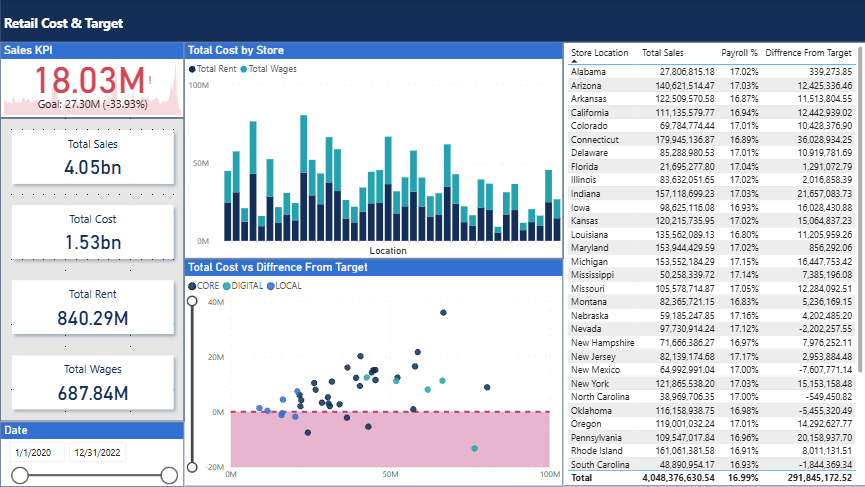

Layout of this report page (visuals, bound fields, positions):
{"tool":"powerbi","page":{"name":"Cost & Target","canvas":[1280,720],"ordinal":1},"visuals":[{"type":"group","id":"g1","title":"Group 1","box":[0,0,1280,64],"z":0},{"type":"kpi","title":"Sales KPI","fields":{"Goal":["Retail Cost.Total Target Sales"],"Indicator":["Retail Sales.Total Sales"],"TrendLine":["Date.Date"]},"box":[0,64,272,112],"z":1000},{"type":"cardVisual","fields":{"Data":["Retail Sales.Total Sales","Retail Cost.Total Cost","Retail Cost.Total Rent","Retail Cost.Toatal Wages"]},"box":[0,176,272,448],"z":2000},{"type":"columnChart","title":"Total Cost by Store","fields":{"Category":["Store Details.StoreID"],"Y":["Retail Cost.Total Rent","Retail Cost.Total Wages"]},"box":[272,64,560,320],"z":3000},{"type":"tableEx","fields":{"Values":["Store Details.Store Location","Retail Sales.Total Sales","Retail Cost.Total Wages","select","Retail Cost.Diffrence From Target"]},"box":[832,64,448,656],"z":4000},{"type":"scatterChart","title":"Total Cost vs Diffrence From Target","fields":{"Category":["Store Details.Store Location"],"Series":["Store Details.Type"],"X":["Retail Cost.Total Cost"],"Y":["Retail Cost.Diffrence From Target"]},"box":[272,384,560,336],"z":5000},{"type":"slicer","title":"Date","fields":{"Values":["Date.Date"]},"box":[0,624,272,96],"z":6000},{"type":"shape","box":[0,0,1280,64],"z":14000,"group":"g1"},{"type":"textbox","box":[0,0,1280,64],"z":15000,"group":"g1"}]}

Visuals, with their boxes in screenshot pixels (x1, y1, x2, y2), scaled from the page's 1280x720 canvas onto the 865x487 screenshot:
"Group 1" group: box=[0, 0, 864, 43]
"Sales KPI" kpi: box=[0, 43, 184, 119]
cardVisual - Retail Sales.Total Sales x Retail Cost.Total Cost: box=[0, 119, 184, 422]
"Total Cost by Store" columnChart: box=[184, 43, 562, 260]
tableEx - Store Details.Store Location x Retail Sales.Total Sales: box=[562, 43, 864, 486]
"Total Cost vs Diffrence From Target" scatterChart: box=[184, 260, 562, 486]
"Date" slicer: box=[0, 422, 184, 486]
shape: box=[0, 0, 864, 43]
textbox: box=[0, 0, 864, 43]
